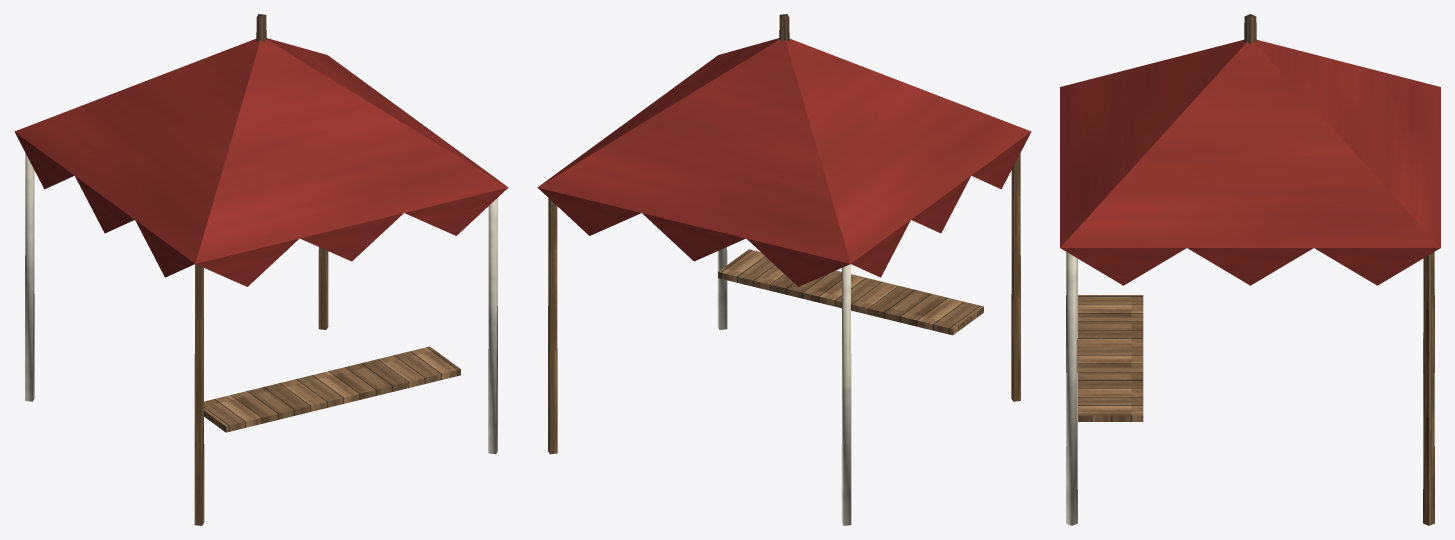
Rendered from Stall_Tent_Market_1_LOD1.gltf.
The picture shows the model from 3 angles, left to right: view 1: azimuth 30°, elevation 25°; view 2: azimuth 150°, elevation 25°; view 3: azimuth 270°, elevation 25°; orthographic projection. The views are drawn at different scales.
Parts seen in each view (by area): view 1: Stall_Tent_Market_1_LOD1; view 2: Stall_Tent_Market_1_LOD1; view 3: Stall_Tent_Market_1_LOD1.
Boxes of the visible parts, left/top/right/bottom form: Stall_Tent_Market_1_LOD1: left=14, top=14, right=508, bottom=525; Stall_Tent_Market_1_LOD1: left=537, top=14, right=1031, bottom=525; Stall_Tent_Market_1_LOD1: left=1060, top=14, right=1440, bottom=525.
Bounding box in the file's own units: 3.2 × 4 × 3.2.
Materials: 4 (4 with a texture image).
